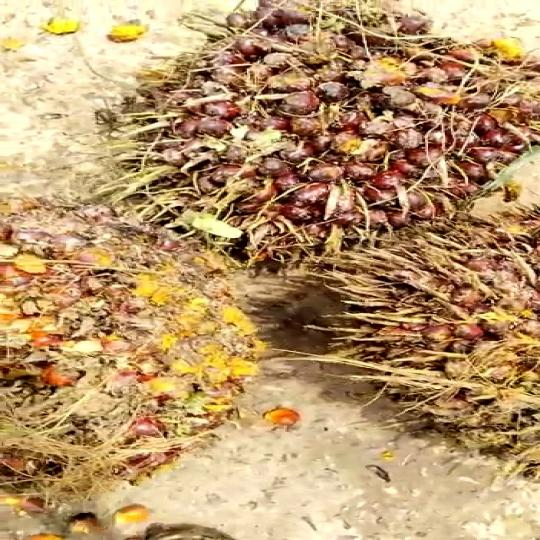masak: (93, 0, 540, 257), (0, 215, 280, 510), (292, 210, 540, 485)
